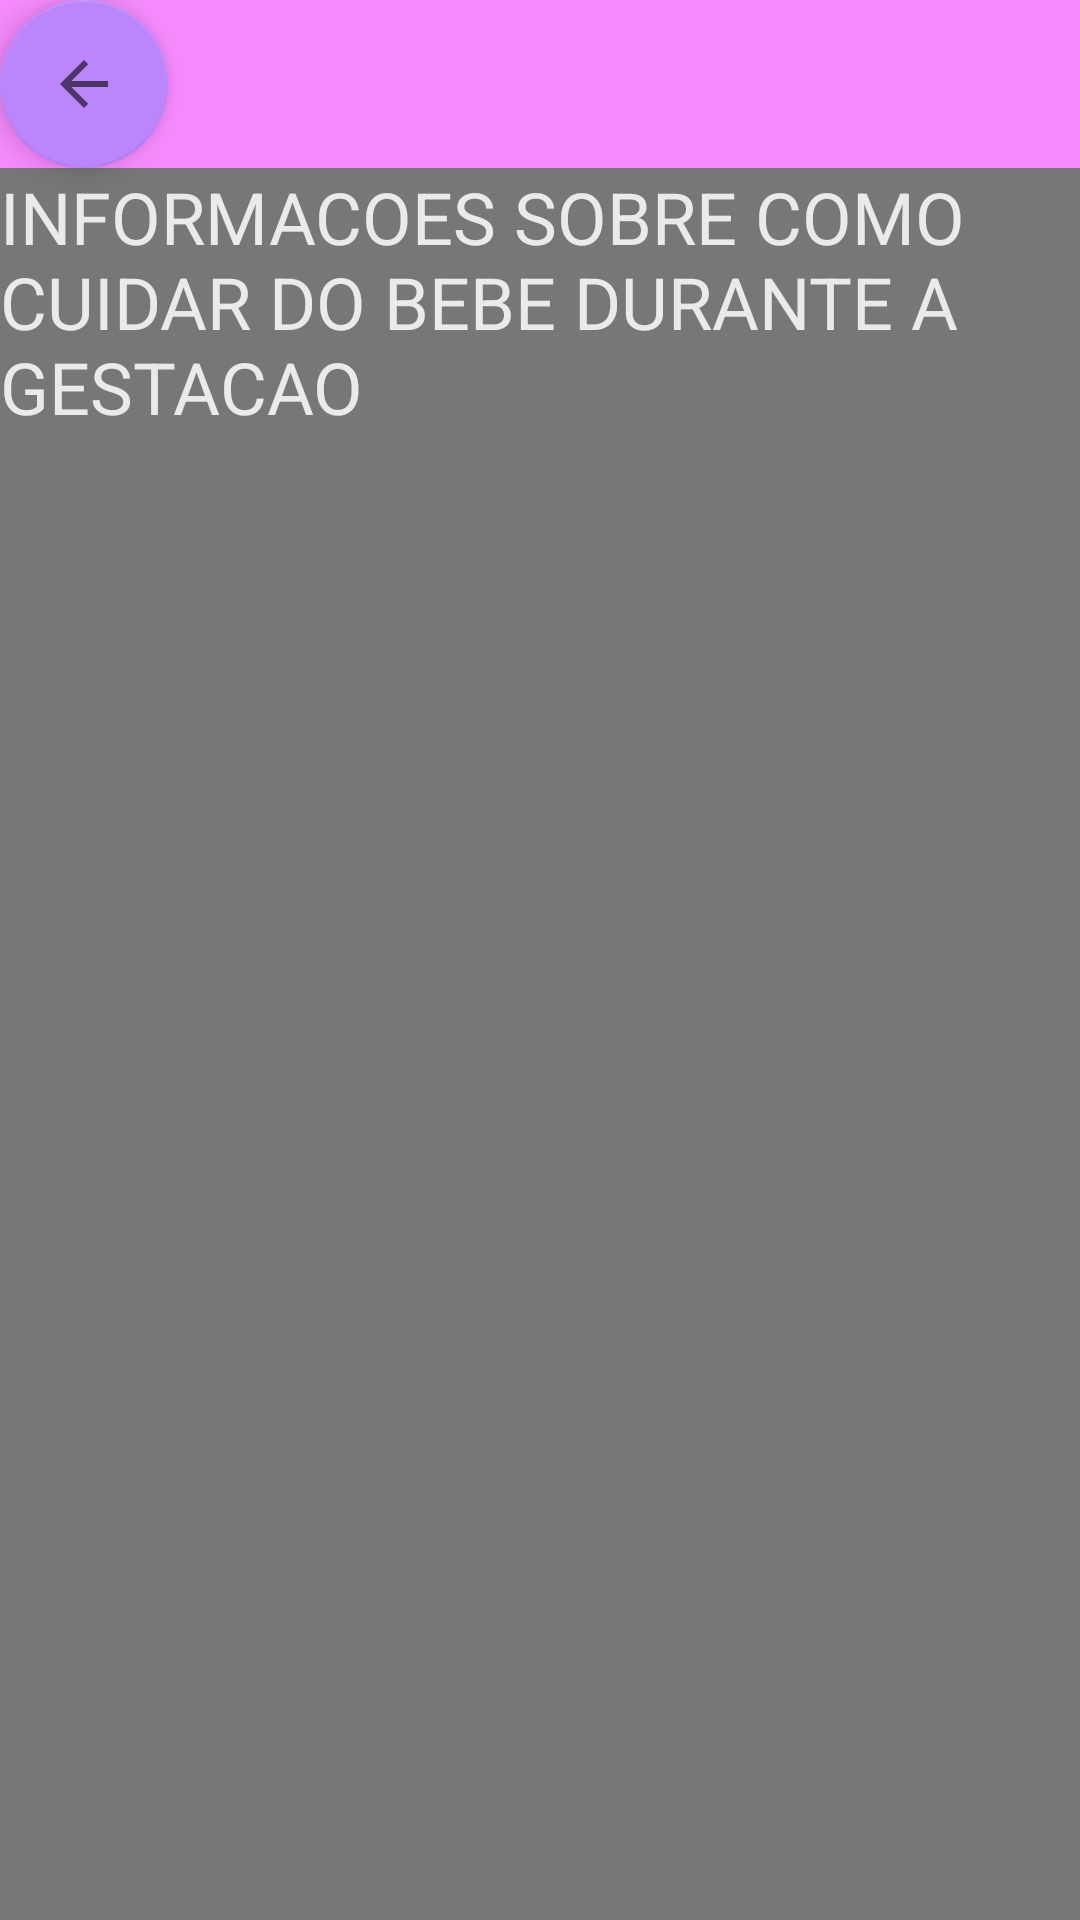

Icon click points for this 1080 × 1920 phone screenshot, format (x=x, y=y):
Retorna à tela principal: (x=84, y=84)
